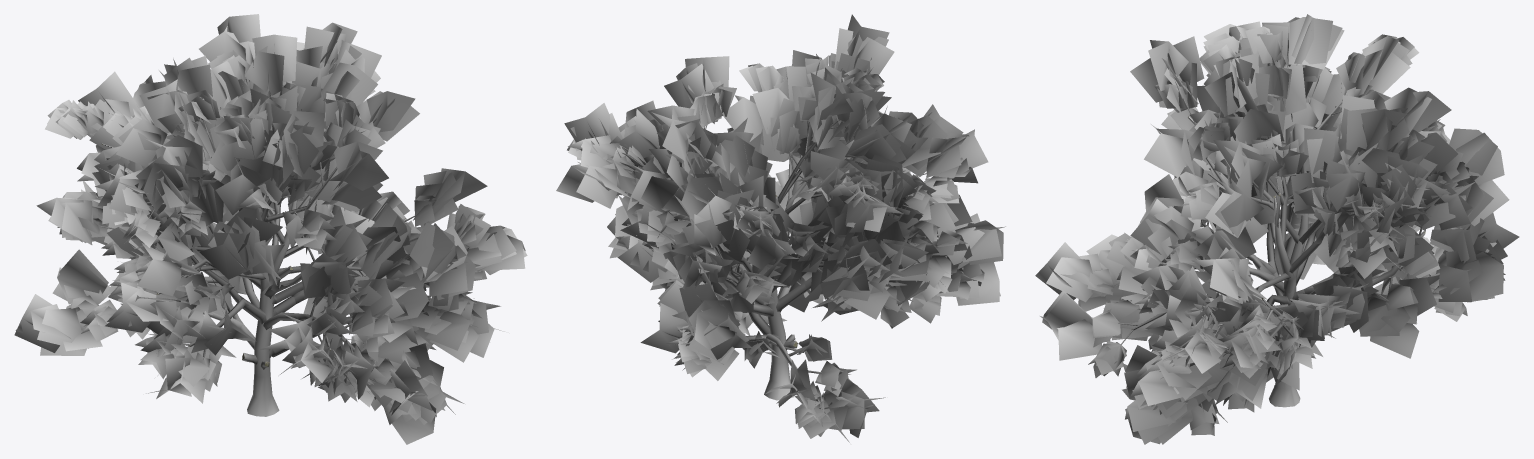
File: SycamoreNorthAmerican_A.fbx
3 views of the same model, side by side, from view 1: azimuth 30°, elevation 25°; view 2: azimuth 150°, elevation 25°; view 3: azimuth 270°, elevation 25° (orthographic). The views are drawn at different scales.
Parts seen in each view (by area): view 1: SycamoreNorthAmerican_A_LOD0; view 2: SycamoreNorthAmerican_A_LOD0; view 3: SycamoreNorthAmerican_A_LOD0.
Boxes of the visible parts, x1,y1,x2,y2 form: SycamoreNorthAmerican_A_LOD0: (14, 14, 527, 444); SycamoreNorthAmerican_A_LOD0: (556, 14, 1005, 442); SycamoreNorthAmerican_A_LOD0: (1035, 14, 1519, 444).
Size of the model in its own units: 2453 by 2017 by 2482.
